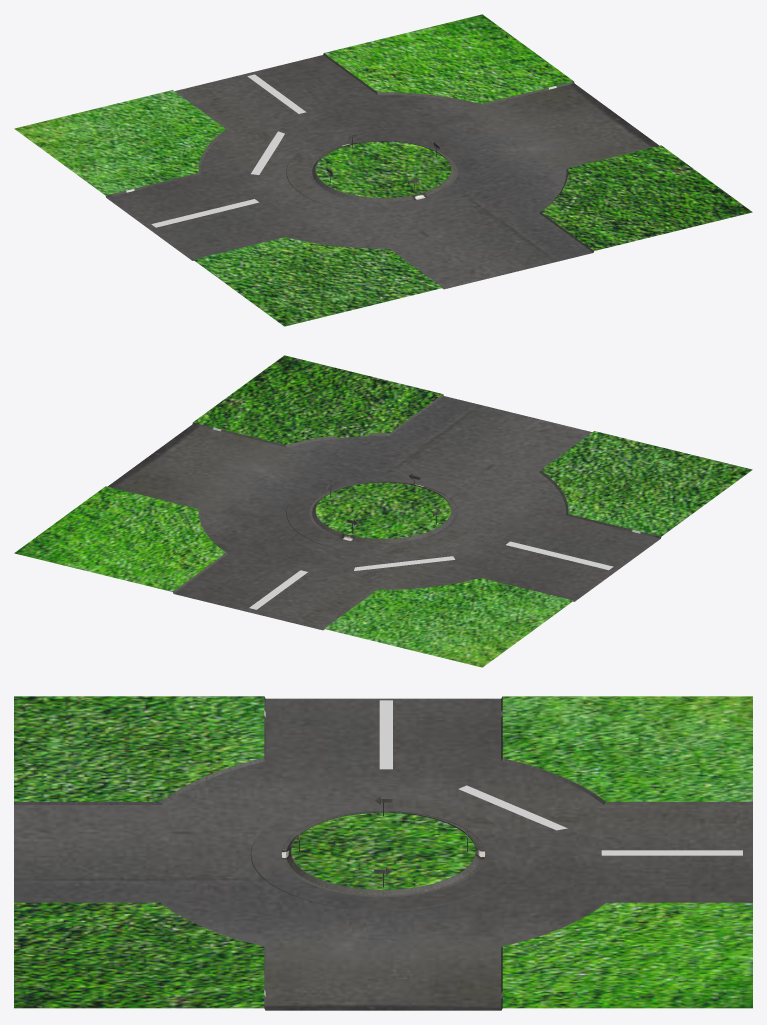
File: Kreisverkehr.dae
3 renders of one model, top to bottom at view 1: azimuth 30°, elevation 25°; view 2: azimuth 150°, elevation 25°; view 3: azimuth 270°, elevation 25°, orthographic. The views are drawn at different scales.
Visible parts, largest first — view 1: Circle, Plane_002; view 2: Circle, Plane_002; view 3: Circle, Plane_002, Plane_004, Plane_000.
Part boxes in pixels (x1,y1,x2,y2): Circle: (14,14,752,326); Plane_002: (151,199,259,227); Circle: (14,355,752,667); Plane_002: (506,541,613,570); Circle: (14,696,752,1010); Plane_002: (379,700,392,769); Plane_004: (601,850,742,855); Plane_000: (458,785,567,830).
Bounding box in the file's own units: 40 × 40 × 1.72.
5 materials, 2 textured.
